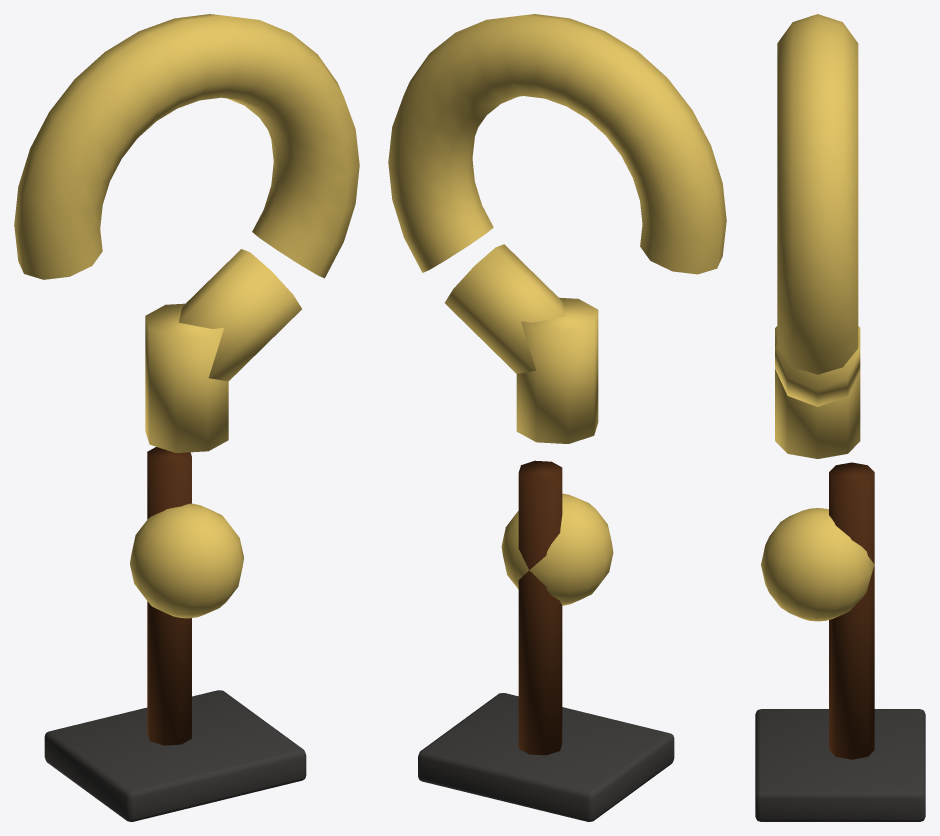
Rendered from ask.glb.
The picture shows the model from 3 angles, left to right: view 1: azimuth 30°, elevation 25°; view 2: azimuth 150°, elevation 25°; view 3: azimuth 270°, elevation 25°; orthographic projection. The views are drawn at different scales.
Parts seen in each view (by area): view 1: hook, base, stem, dot, post, join; view 2: hook, base, post, stem, join, dot; view 3: hook, base, post, dot, stem, join.
Part boxes in pixels (bbox=[...]): hook: bbox=[14, 14, 359, 279]; base: bbox=[44, 690, 306, 821]; stem: bbox=[145, 303, 228, 452]; dot: bbox=[130, 503, 243, 618]; post: bbox=[147, 447, 191, 745]; join: bbox=[178, 249, 301, 381]; hook: bbox=[388, 14, 726, 274]; base: bbox=[418, 693, 674, 821]; post: bbox=[518, 460, 562, 755]; stem: bbox=[516, 297, 598, 443]; join: bbox=[445, 244, 565, 373]; dot: bbox=[501, 493, 613, 605]; hook: bbox=[777, 14, 858, 374]; base: bbox=[755, 709, 925, 821]; post: bbox=[829, 462, 874, 759]; dot: bbox=[761, 508, 874, 621]; stem: bbox=[775, 326, 860, 458]; join: bbox=[775, 343, 860, 406].
Size of the model in its own units: 0.67 by 1.45 by 0.3.
